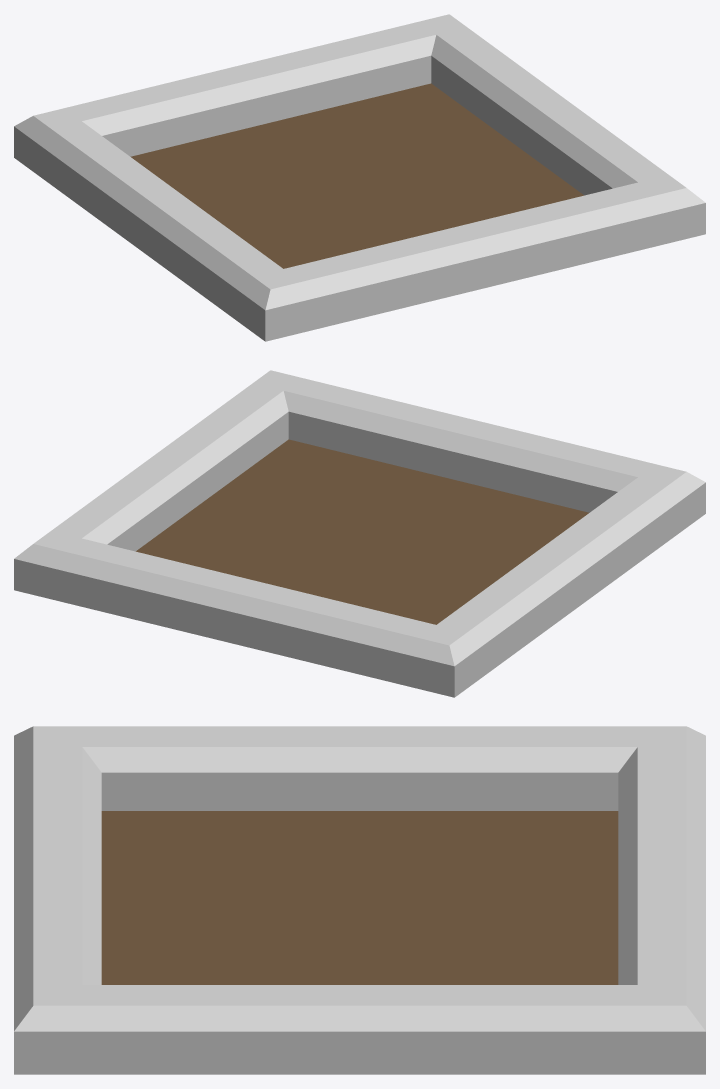
Rendered from jardinera_cuadrada.fbx.
3 views of the same model, one above another, from view 1: azimuth 30°, elevation 25°; view 2: azimuth 150°, elevation 25°; view 3: azimuth 270°, elevation 25° (orthographic). The views are drawn at different scales.
Parts seen in each view (by area): view 1: jardinera_cuadrada; view 2: jardinera_cuadrada; view 3: jardinera_cuadrada.
Boxes of the visible parts, x1,y1,x2,y2 form: jardinera_cuadrada: [14, 14, 705, 341]; jardinera_cuadrada: [14, 370, 705, 697]; jardinera_cuadrada: [14, 726, 705, 1074].
Bounding box in the file's own units: 148 × 14.15 × 146.
